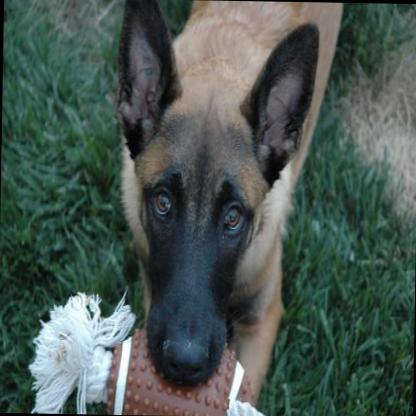malinois: (106, 0, 343, 414)
